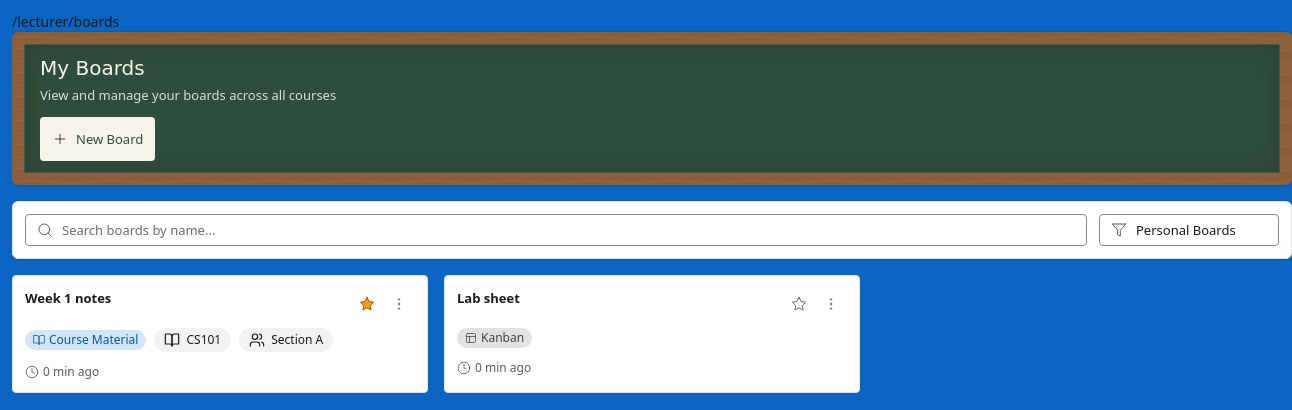
Test: LecturerBoardsPage › search narrows by name and a miss says to try another term
expect the button "Week 1 notes" is shown: met, box [25,288,111,308]
Type "lab" into the field labelled "Search boards by name". click: (556,230)
box: [25,214,1087,246]
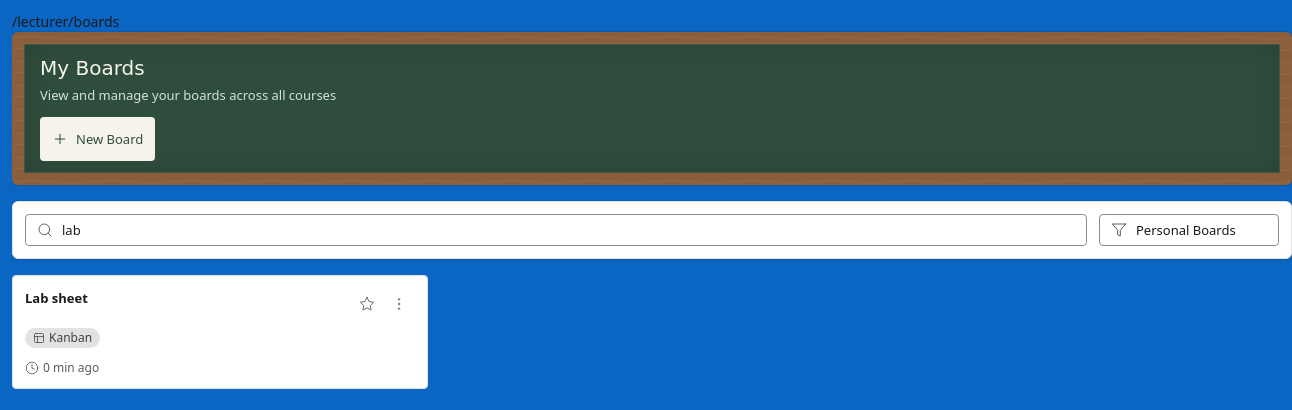
expect the button "Lab sheet" is shown: met, box [25,288,88,308]
expect the button "Week 1 notes" is gone: met
Replace the text in the field named "Search boards by name" with "zzz". click: (556,230)
box: [25,214,1087,246]
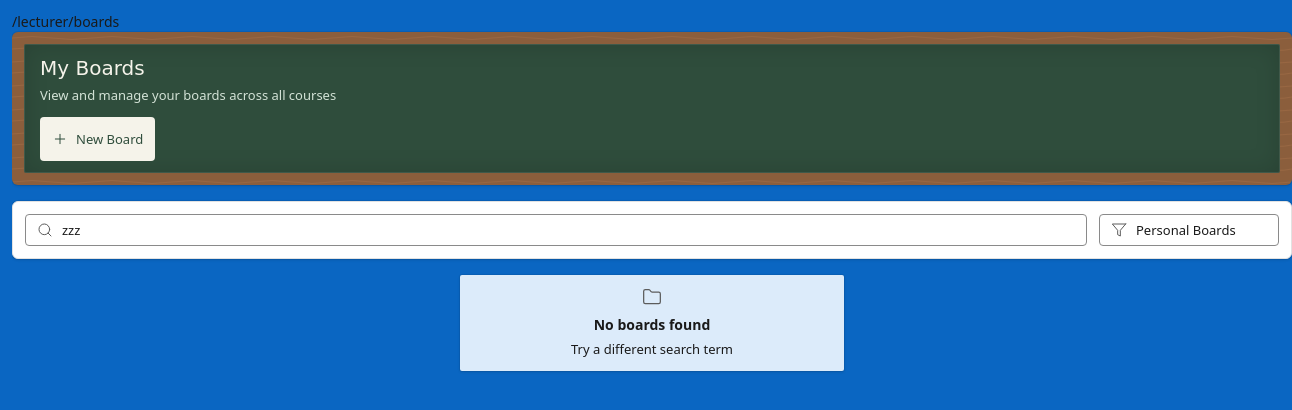
expect the heading "No boards found" is shown: met, box [594,315,710,335]
expect the text "Try a different search term" is shown: met, box [571,339,733,359]
